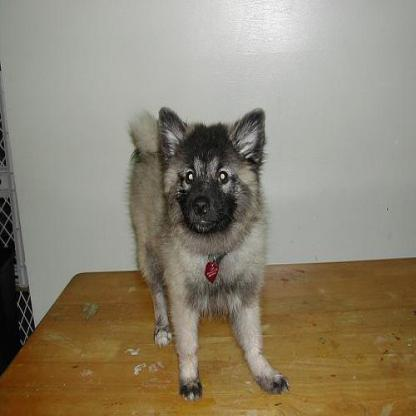keeshond: (127, 106, 289, 400)
